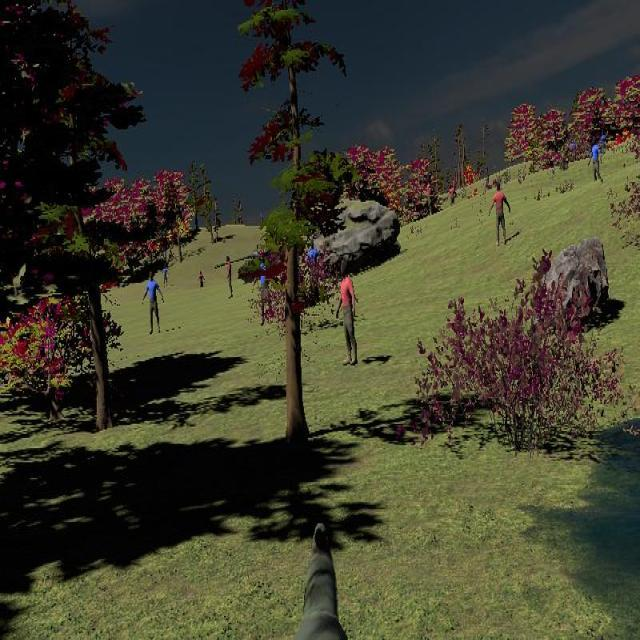Human: (337, 258, 358, 366), (142, 270, 164, 334), (490, 182, 511, 245), (589, 138, 602, 185)
